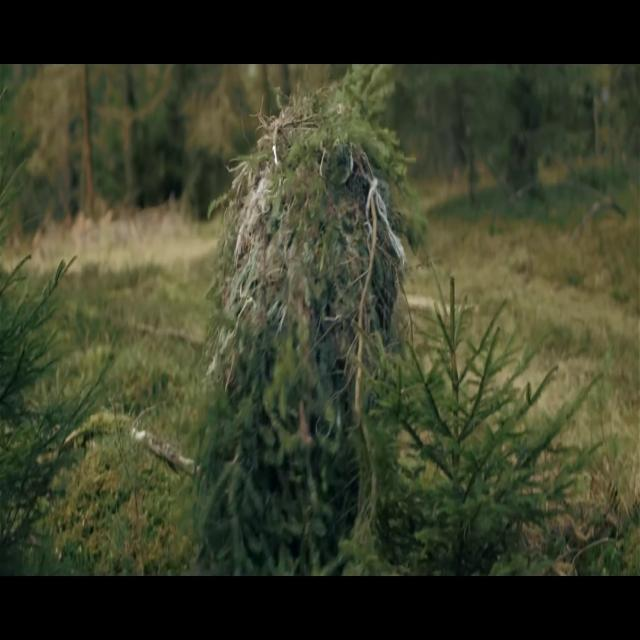Camouflage: (193, 68, 428, 569)
